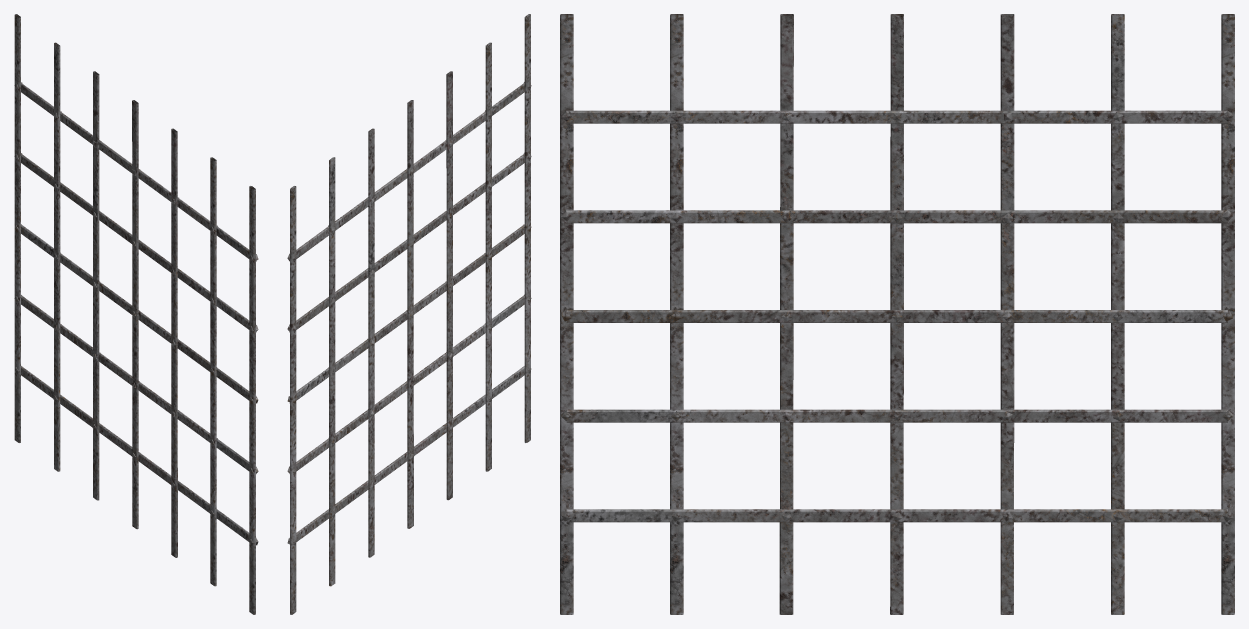
File: IronBars.fbx
The picture shows the model from 3 angles, left to right: view 1: azimuth 30°, elevation 25°; view 2: azimuth 150°, elevation 25°; view 3: azimuth 270°, elevation 25°; orthographic projection. The views are drawn at different scales.
Visible parts, largest first — view 1: Рештка, Рештка_Л, Рештка_ПР; view 2: Рештка, Рештка_ПР, Рештка_Л; view 3: Рештка, Рештка_ПР, Рештка_Л.
Boxes of the visible parts, x1,y1,x2,y2 form: Рештка: (21,42,256,586); Рештка_Л: (249,186,258,614); Рештка_ПР: (14,14,22,442); Рештка: (289,42,524,586); Рештка_ПР: (287,186,296,614); Рештка_Л: (523,14,531,442); Рештка: (566,14,1227,614); Рештка_ПР: (1221,14,1234,614); Рештка_Л: (560,14,573,614).
Size of the model in its own units: 204 by 3.47 by 200.
